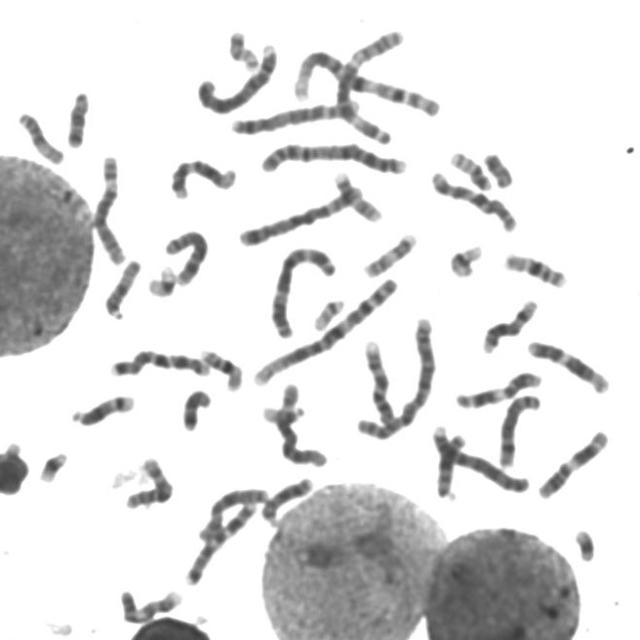A1: (249, 271, 401, 387), (288, 42, 443, 118)
A2: (351, 310, 439, 441), (255, 133, 410, 176)
A3: (331, 21, 408, 147), (266, 238, 340, 340)
B4: (426, 419, 534, 495), (190, 37, 280, 116)
B5: (234, 177, 368, 247), (225, 93, 364, 136)
C10: (425, 164, 521, 234), (120, 450, 177, 511)
C11: (532, 422, 612, 501), (450, 364, 545, 410)
C12: (523, 332, 614, 394), (165, 152, 240, 200)
C6: (272, 376, 331, 468), (89, 147, 130, 267)
C7: (178, 487, 262, 587), (104, 342, 214, 378)
C8: (492, 387, 544, 469), (159, 223, 211, 287)
C9: (359, 333, 401, 430), (114, 581, 186, 626)
D13: (256, 470, 316, 528), (430, 426, 470, 501)
D14: (477, 292, 542, 355), (66, 388, 138, 428)
D15: (12, 104, 67, 166), (98, 251, 144, 321)
E16: (498, 245, 570, 290), (195, 341, 246, 392)
E17: (358, 226, 421, 279), (329, 165, 385, 223)
E18: (61, 83, 92, 149), (177, 382, 214, 432)
F19: (444, 238, 486, 279), (142, 259, 180, 299)
F20: (445, 144, 495, 192), (222, 23, 262, 71)
G21: (33, 444, 70, 485), (569, 521, 599, 563)
G22: (308, 291, 348, 332), (258, 398, 308, 426)
X: (194, 480, 270, 545)
Y: (478, 144, 517, 189)
